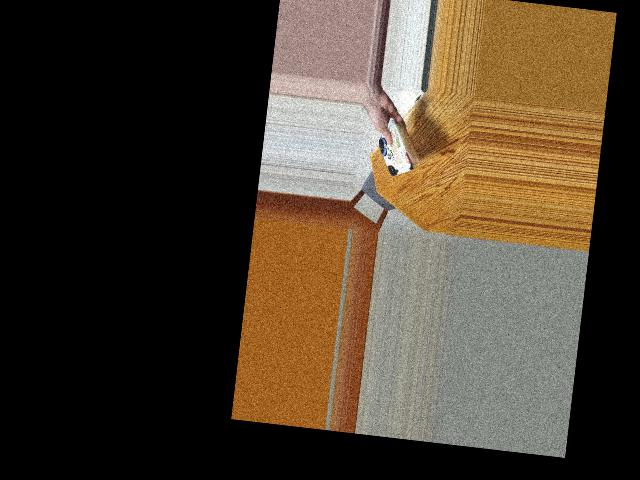cheese: (368, 124, 427, 176)
